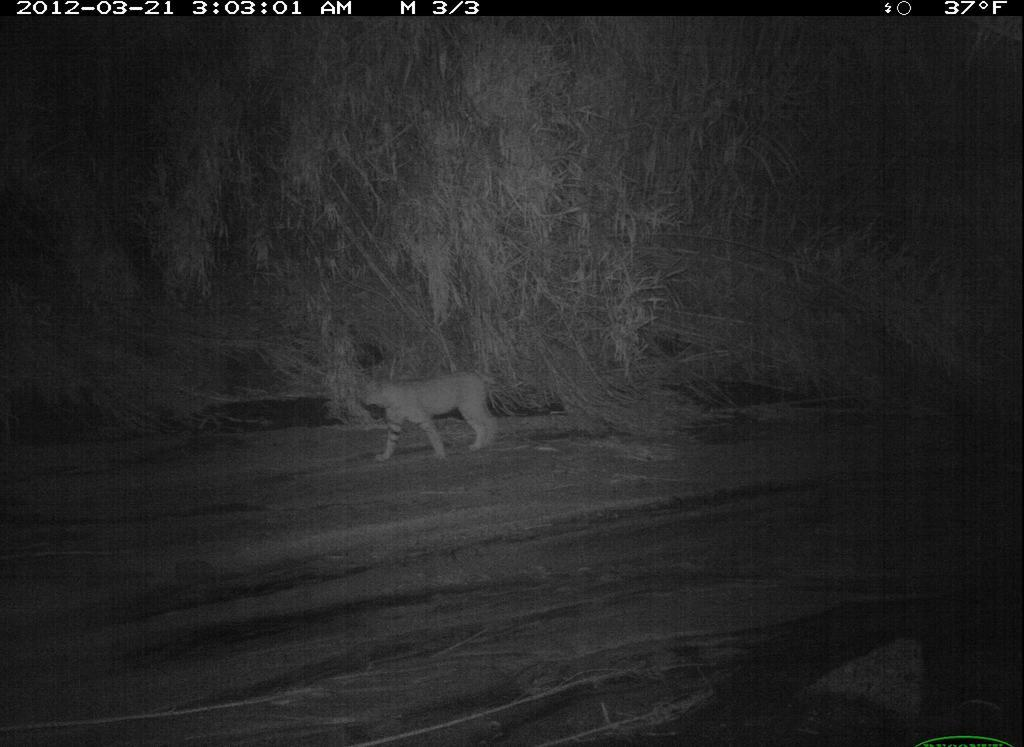bobcat: (349, 367, 507, 459)
